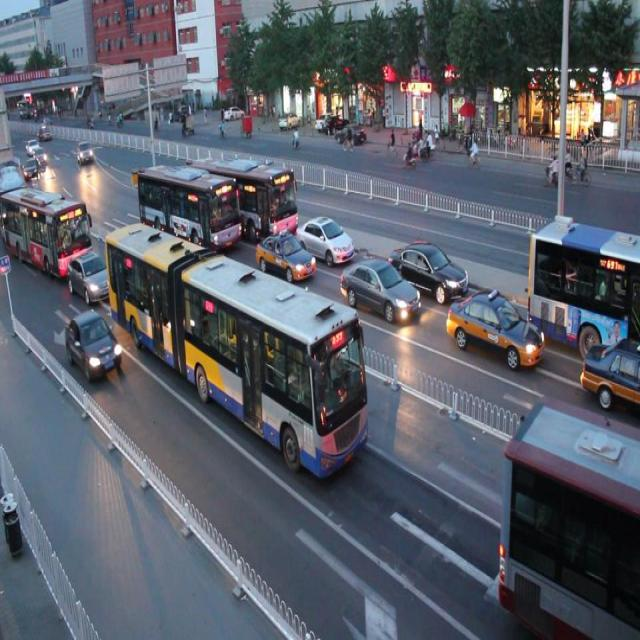car: (444, 294, 541, 371), (339, 257, 420, 325), (387, 240, 467, 304), (580, 334, 640, 409), (65, 308, 122, 382), (256, 231, 315, 283), (296, 212, 354, 263), (68, 245, 110, 302)
van: (106, 221, 369, 479), (500, 399, 640, 639), (527, 217, 640, 354), (138, 163, 240, 255), (202, 152, 298, 234), (1, 184, 89, 272)
